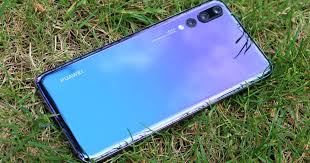huawei: (31, 1, 271, 163)
